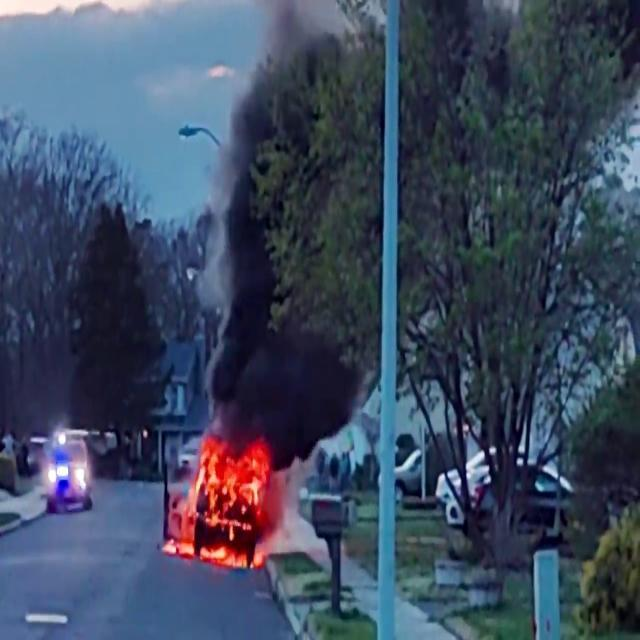Fire: (170, 433, 272, 564)
Smoke: (206, 101, 344, 447)
